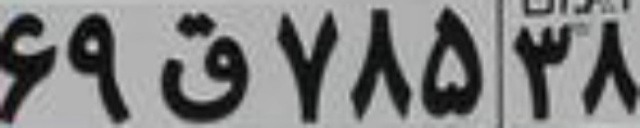3: (511, 23, 571, 120)
5: (420, 4, 485, 120)
6: (2, 11, 59, 124)
7: (272, 8, 340, 125)
8: (347, 7, 413, 122), (578, 21, 637, 116)
9: (65, 13, 125, 124)
ghaf: (154, 11, 251, 122)
